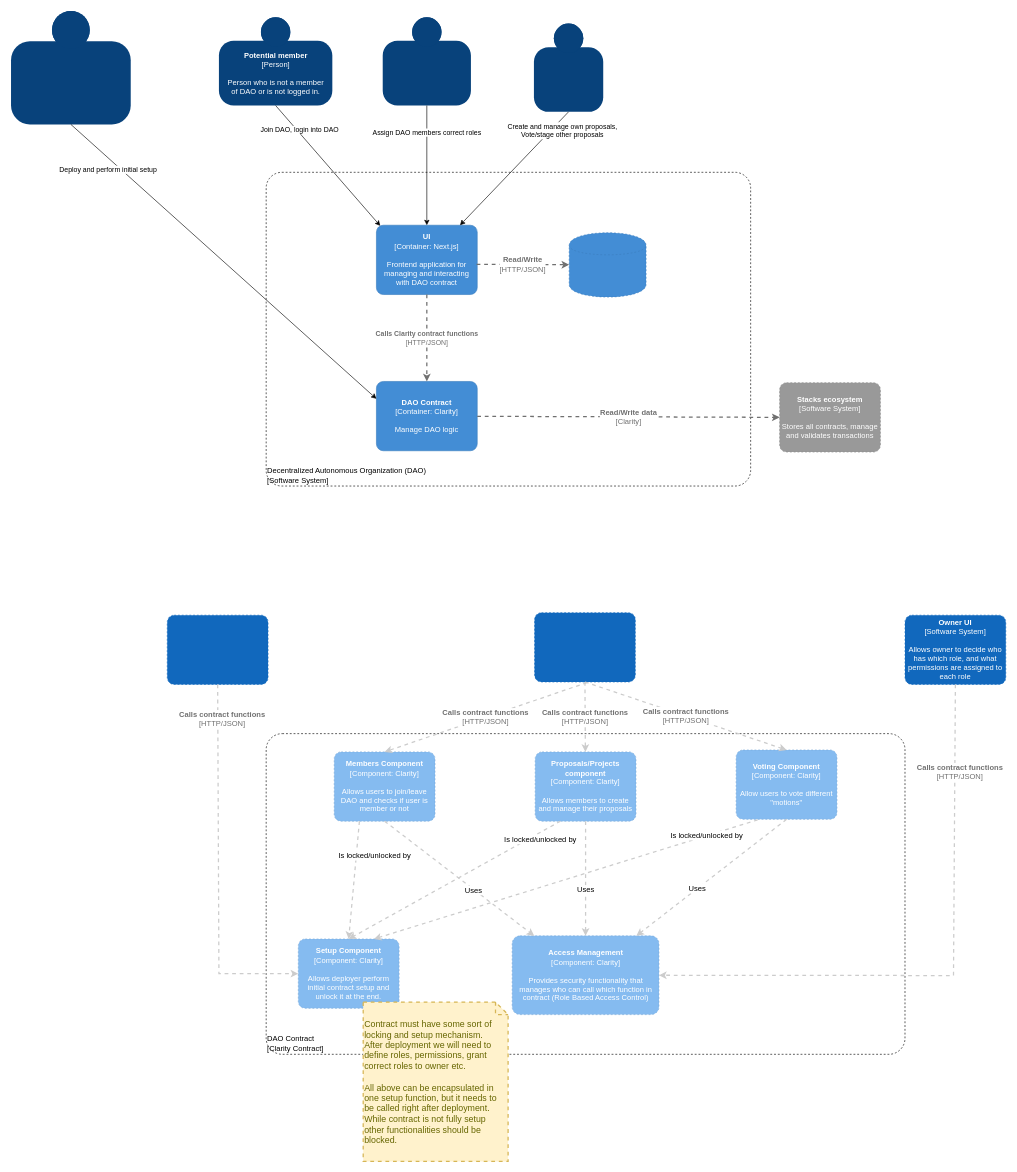
Some shapes in this 1017 by 1172 pixel diagram are drawn without their labels. The shapes that lost their labels are listed below. From the top down, each one's centre as x and y in pixels, then its label:
At [70,67]: "Deployer [Person] Person or group who deploys and setup base contract settings".
At [426,61]: "Administrator/Owner [Person] DAO owner".
At [568,67]: "Member [Person] DAO Member".
At [607,264]: "Database [Container: Gaia] Storage".
At [217,649]: "Setup UI [Software System] Allows deployer setup contract".
At [584,647]: "Members UI [Software System] Allows members to interact with DAO".
